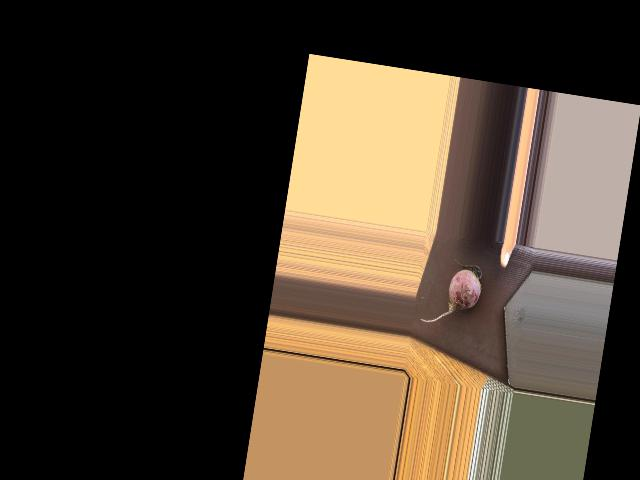beet: (420, 253, 485, 330)
